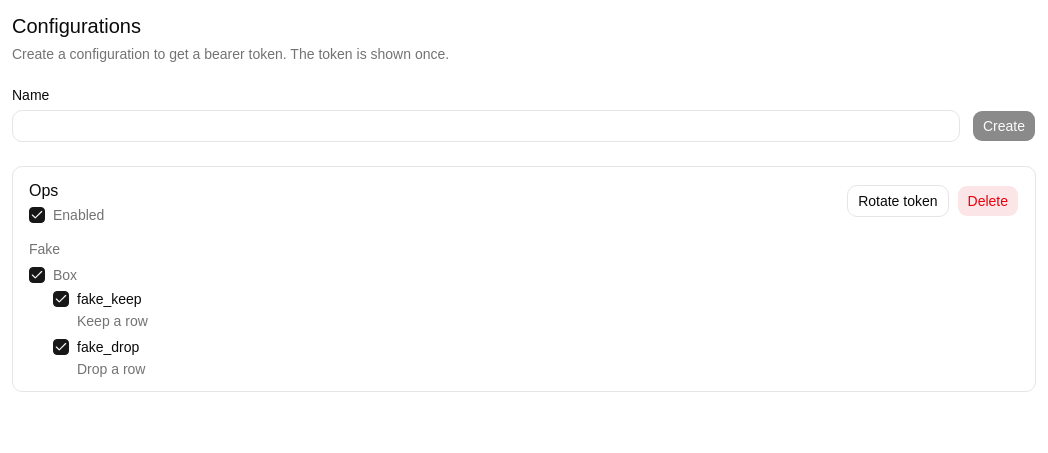
Test: admin-configurations-ui: Enable or disable tools for an assigned account › Failed toggle shows English error without secrets
Click the checkbox named "Enable fake_drop for Box": (61,347) [53, 339, 69, 355]
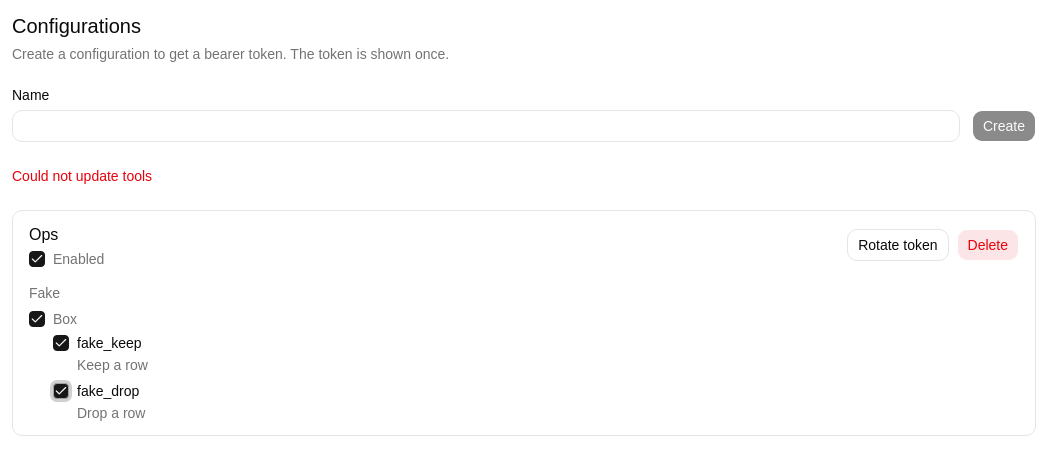
Now the message reads "Could not update tools", box [12, 168, 152, 184]
